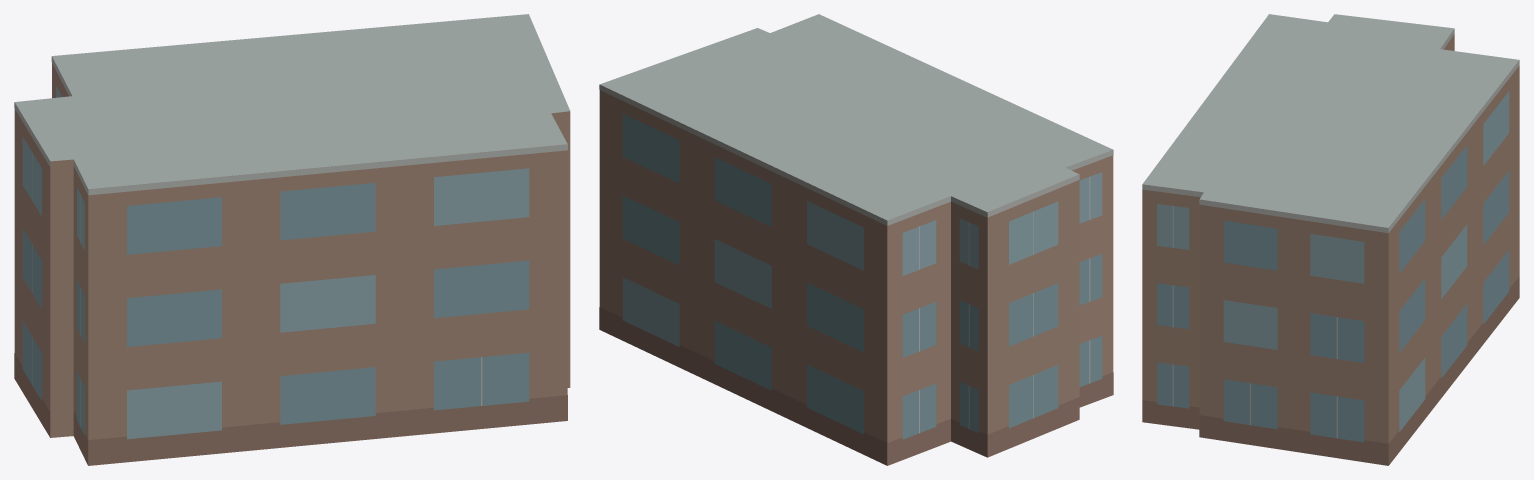
File: survey-upis-32669419.glb
3 renders of one model, left to right at view 1: azimuth 30°, elevation 25°; view 2: azimuth 150°, elevation 25°; view 3: azimuth 270°, elevation 25°, orthographic. The views are drawn at different scales.
Visible parts, largest first — view 1: survey-upis-32669419.tmp; view 2: survey-upis-32669419.tmp; view 3: survey-upis-32669419.tmp.
Boxes of the visible parts, x1,y1,x2,y2 form: survey-upis-32669419.tmp: [14, 14, 570, 465]; survey-upis-32669419.tmp: [599, 14, 1113, 465]; survey-upis-32669419.tmp: [1142, 14, 1519, 465].
Bounding box in the file's own units: 21.43 × 11.1 × 15.97.
